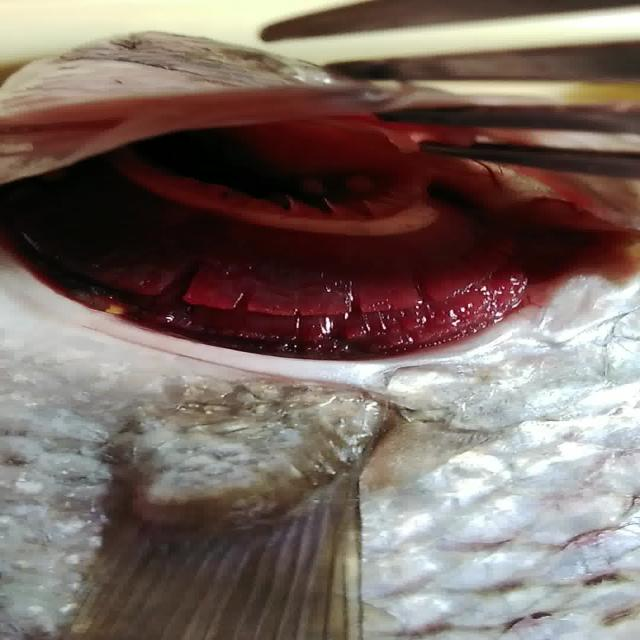Fresh: (10, 122, 598, 386)
